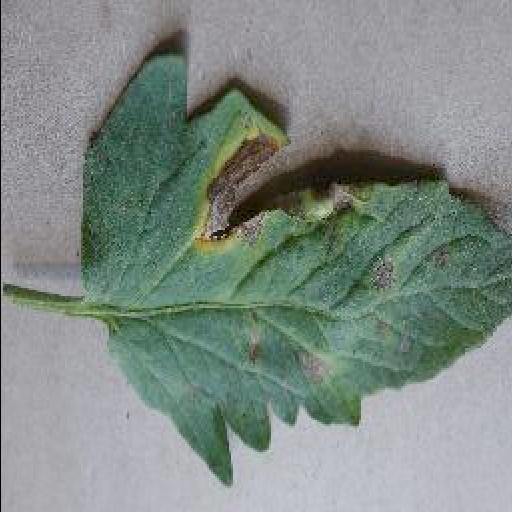disease_tomato: (82, 52, 510, 490)
